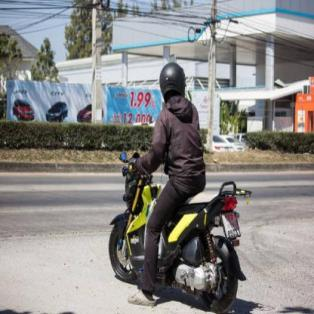Motocicleta: (104, 144, 249, 313)
